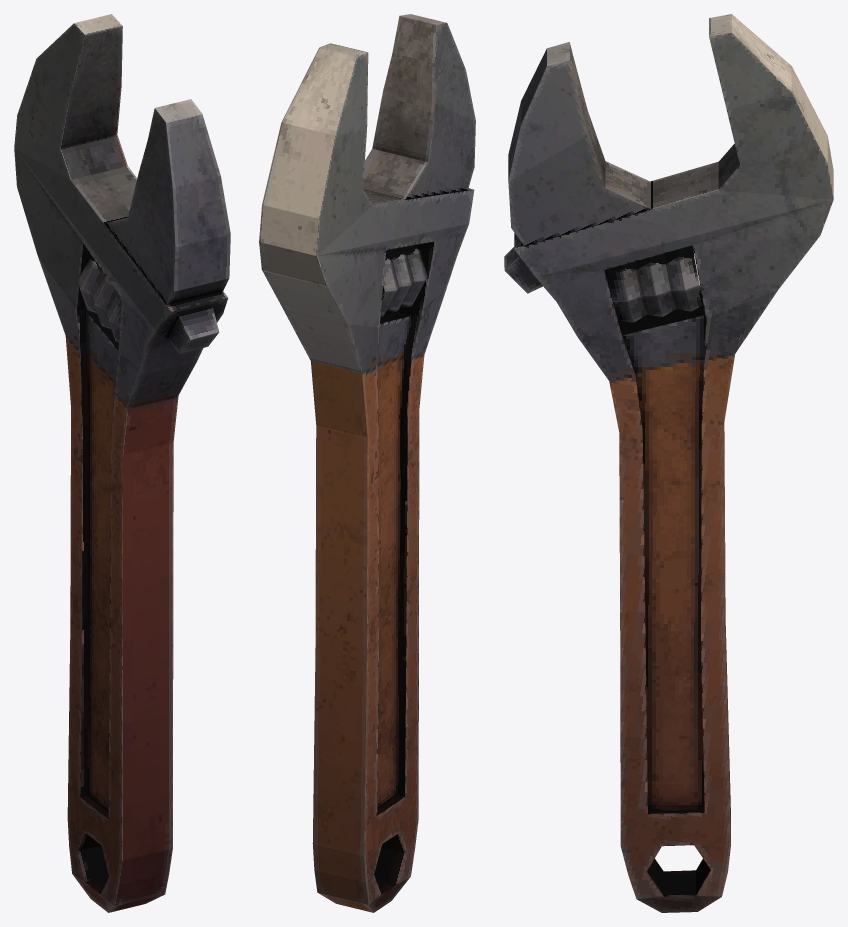
The model's file is item_repair_wrench.glb.
3 renders of one model, left to right at view 1: azimuth 30°, elevation 25°; view 2: azimuth 150°, elevation 25°; view 3: azimuth 270°, elevation 25°, orthographic.
Visible parts, largest first — view 1: RepairWrench; view 2: RepairWrench; view 3: RepairWrench.
Boxes of the visible parts, <box> form: RepairWrench: <box>14,14,230,912</box>; RepairWrench: <box>259,14,475,912</box>; RepairWrench: <box>504,14,833,912</box>.
Bounding box in the file's own units: 0.0493 × 0.5702 × 0.1934.
1 material, 1 textured.
